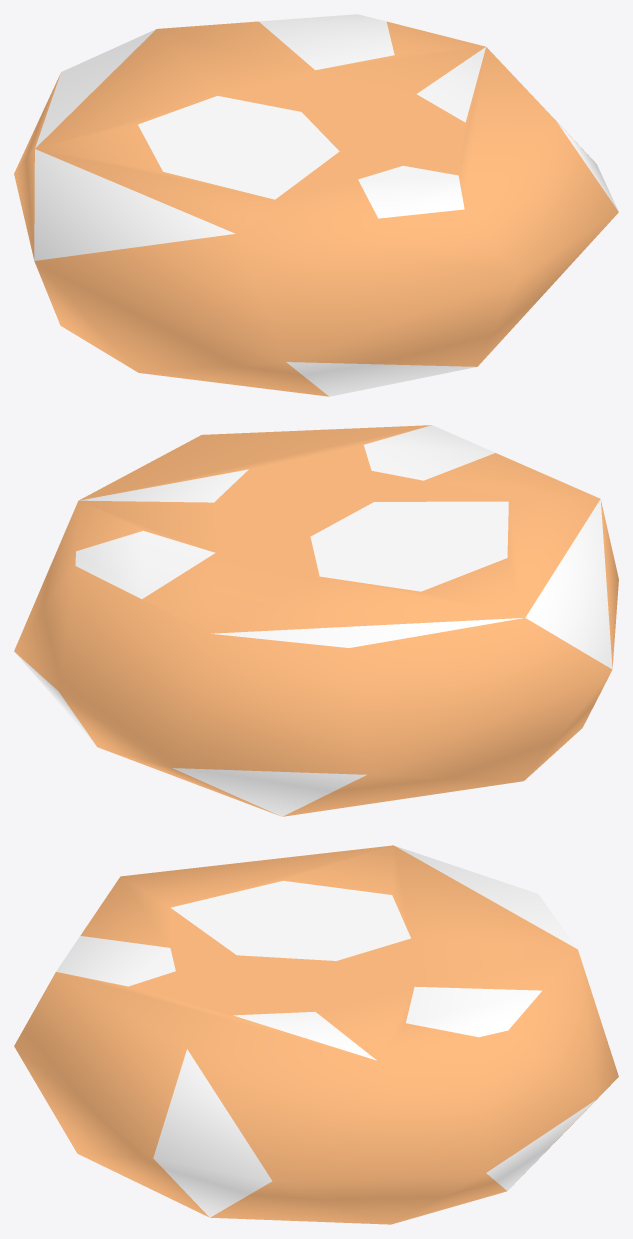
Rendered from mushhead.glb.
3 views of the same model, one above another, from view 1: azimuth 30°, elevation 25°; view 2: azimuth 150°, elevation 25°; view 3: azimuth 270°, elevation 25° (orthographic). The views are drawn at different scales.
Parts seen in each view (by area): view 1: Cilindro; view 2: Cilindro; view 3: Cilindro.
Boxes of the visible parts, <box> form: Cilindro: <box>14,14,618,396</box>; Cilindro: <box>14,425,618,816</box>; Cilindro: <box>14,845,618,1224</box>.
Size of the model in its own units: 6.83 by 2.06 by 6.61.
